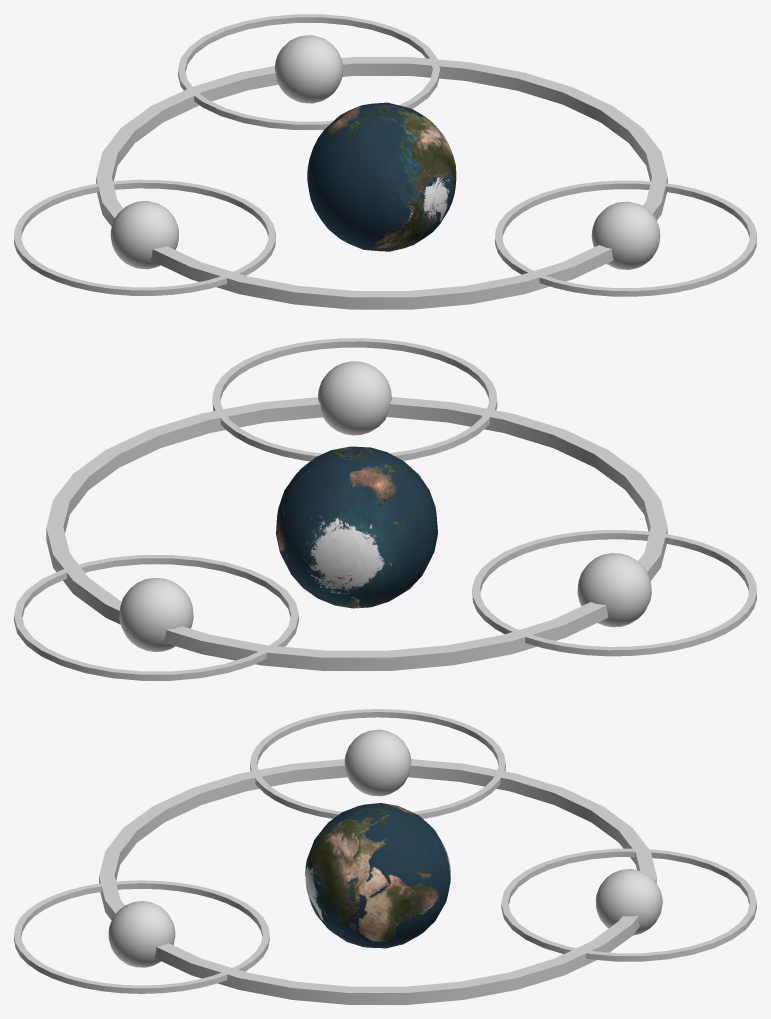
The model's file is RandomObjectForUnity.FBX.
3 views of the same model, one above another, from view 1: azimuth 30°, elevation 25°; view 2: azimuth 150°, elevation 25°; view 3: azimuth 270°, elevation 25° (orthographic). The views are drawn at different scales.
Visible parts, largest first — view 1: Tube001, Sphere001, Tube005, Tube002, Tube003, Sphere003, Sphere004, Sphere002; view 2: Tube001, Sphere001, Tube003, Tube002, Tube005, Sphere004, Sphere003, Sphere002; view 3: Tube001, Sphere001, Tube005, Tube003, Tube002, Sphere002, Sphere004, Sphere003.
Part boxes in pixels (bbox=[...]): Tube001: bbox=[96, 57, 667, 309]; Sphere001: bbox=[307, 102, 456, 251]; Tube005: bbox=[495, 180, 756, 296]; Tube002: bbox=[14, 179, 275, 295]; Tube003: bbox=[178, 14, 439, 129]; Sphere003: bbox=[274, 35, 342, 103]; Sphere004: bbox=[591, 201, 660, 269]; Sphere002: bbox=[110, 201, 178, 269]; Tube001: bbox=[46, 397, 667, 670]; Sphere001: bbox=[276, 446, 437, 608]; Tube003: bbox=[14, 555, 298, 680]; Tube002: bbox=[472, 530, 756, 656]; Tube005: bbox=[212, 338, 497, 461]; Sphere004: bbox=[318, 361, 391, 435]; Sphere003: bbox=[119, 578, 193, 651]; Sphere002: bbox=[577, 553, 651, 627]; Tube001: bbox=[99, 759, 656, 1004]; Sphere001: bbox=[305, 803, 450, 948]; Tube005: bbox=[14, 880, 269, 993]; Tube003: bbox=[501, 848, 756, 961]; Tube002: bbox=[250, 709, 505, 818]; Sphere002: bbox=[344, 729, 411, 796]; Sphere004: bbox=[108, 901, 175, 967]; Sphere003: bbox=[596, 869, 662, 935].
Bounding box in the file's own units: 79.28 × 17.14 × 87.64.
